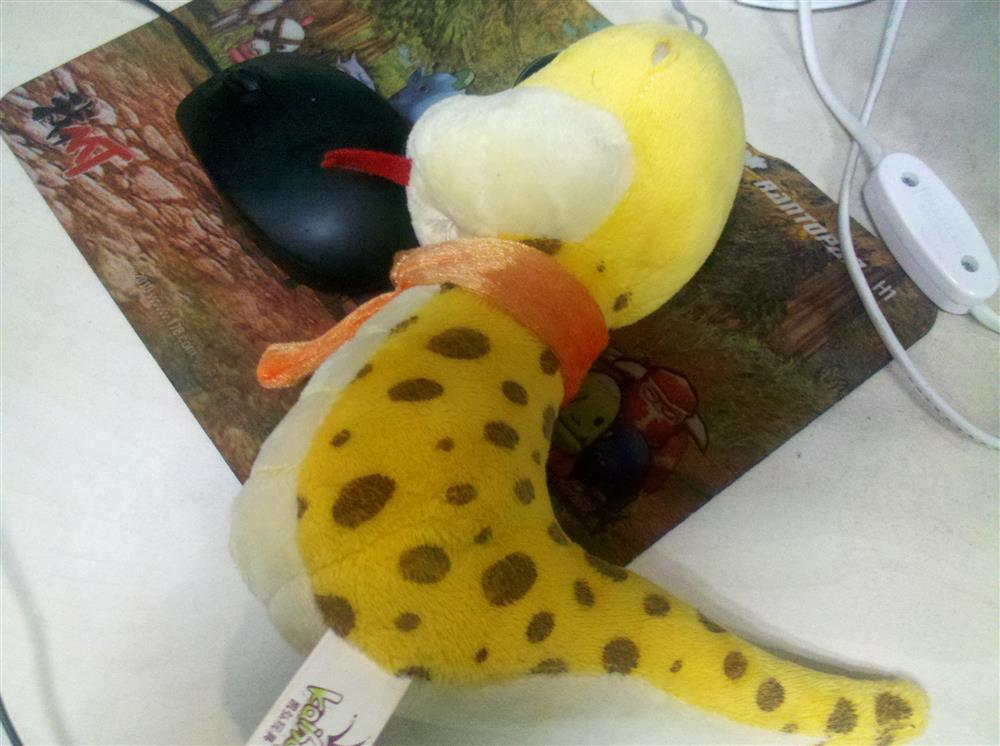toy_snake: (230, 16, 927, 735)
